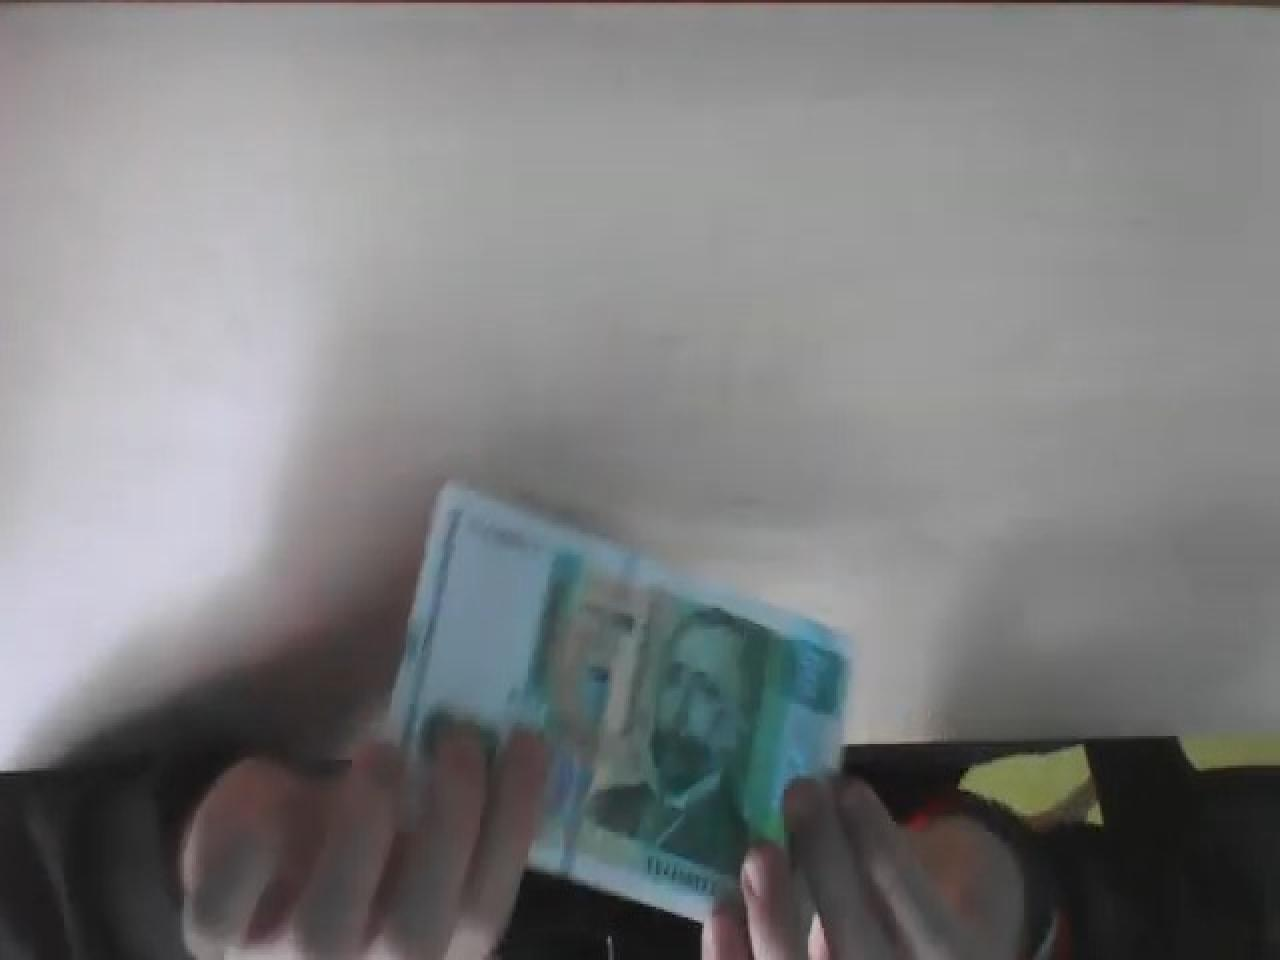100leva: (390, 483, 854, 923)
